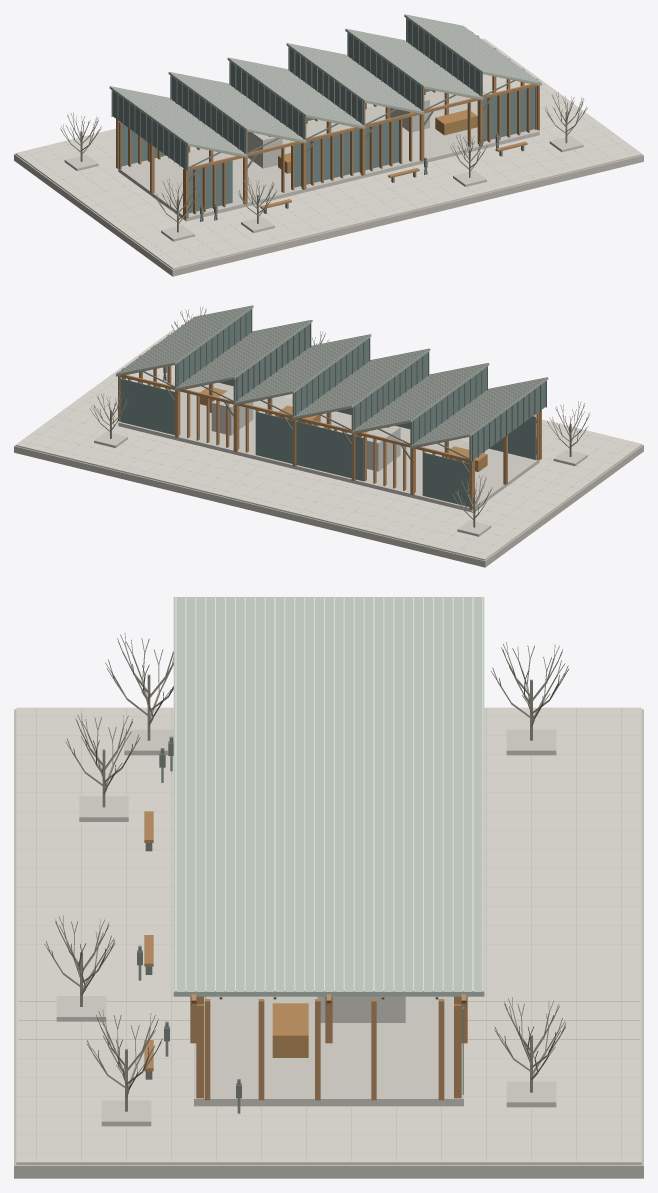
Rendered from northlight.glb.
3 renders of one model, top to bottom at view 1: azimuth 30°, elevation 25°; view 2: azimuth 150°, elevation 25°; view 3: azimuth 270°, elevation 25°, orthographic. The views are drawn at different scales.
Visible parts, largest first — view 1: Site / Ground - Plaster, Enclosure / Standing seam roof - Zinc, Enclosure / Roof seams - Aluminum, Enclosure / Clerestory - Glass, Structure / Floor - Concrete, Site / Ground - Paving, Enclosure / Shopfronts - Glass, Enclosure / Facade fins - Cedar, Structure / Portal frames - Cedar, Structure / Clerestory frames - Steel, Site / Planting - Branch, Site / Ground - Concrete (+4 smaller); view 2: Site / Ground - Plaster, Enclosure / Standing seam roof - Zinc, Enclosure / Roof seams - Aluminum, Enclosure / Shopfronts - Glass, Enclosure / Clerestory - Glass, Structure / Floor - Concrete, Site / Ground - Paving, Structure / Clerestory frames - Steel, Structure / Portal frames - Cedar, Enclosure / Facade fins - Cedar, Interior / Service cores - Concrete, Site / Planting - Branch (+3 smaller); view 3: Site / Ground - Plaster, Enclosure / Standing seam roof - Zinc, Site / Ground - Paving, Enclosure / Roof seams - Aluminum, Structure / Floor - Concrete, Site / Planting - Branch, Site / Ground - Concrete, Structure / End frame - Cedar, Interior / Service cores - Concrete, Interior / Market counters - Ochre, Enclosure / Facade fins - Cedar, Structure / Portal frames - Cedar (+2 smaller).
Boxes of the visible parts, <box> form: Site / Ground - Plaster: <box>15,38,642,269</box>; Enclosure / Standing seam roof - Zinc: <box>109,15,541,157</box>; Enclosure / Roof seams - Aluminum: <box>110,14,541,154</box>; Enclosure / Clerestory - Glass: <box>112,19,482,170</box>; Structure / Floor - Concrete: <box>118,90,539,221</box>; Site / Ground - Paving: <box>14,42,643,276</box>; Enclosure / Shopfronts - Glass: <box>121,86,534,213</box>; Enclosure / Facade fins - Cedar: <box>118,85,539,214</box>; Structure / Portal frames - Cedar: <box>116,32,540,218</box>; Structure / Clerestory frames - Steel: <box>111,18,480,170</box>; Site / Planting - Branch: <box>60,92,587,232</box>; Site / Ground - Concrete: <box>64,136,583,241</box>; Site / Ground - Plaster: <box>15,329,642,560</box>; Enclosure / Standing seam roof - Zinc: <box>116,305,548,448</box>; Enclosure / Roof seams - Aluminum: <box>116,305,547,445</box>; Enclosure / Shopfronts - Glass: <box>120,378,535,506</box>; Enclosure / Clerestory - Glass: <box>175,309,545,461</box>; Structure / Floor - Concrete: <box>118,381,539,511</box>; Site / Ground - Paving: <box>14,333,643,567</box>; Structure / Clerestory frames - Steel: <box>177,309,546,461</box>; Structure / Portal frames - Cedar: <box>117,322,541,509</box>; Enclosure / Facade fins - Cedar: <box>118,376,539,496</box>; Interior / Service cores - Concrete: <box>211,387,400,471</box>; Site / Planting - Branch: <box>89,306,590,527</box>; Site / Ground - Plaster: <box>16,707,641,1164</box>; Enclosure / Standing seam roof - Zinc: <box>173,597,484,996</box>; Site / Ground - Paving: <box>14,708,643,1178</box>; Enclosure / Roof seams - Aluminum: <box>175,596,483,991</box>; Structure / Floor - Concrete: <box>194,996,463,1106</box>; Site / Planting - Branch: <box>44,633,569,1111</box>; Site / Ground - Concrete: <box>56,729,556,1126</box>; Structure / End frame - Cedar: <box>204,999,444,1100</box>; Interior / Service cores - Concrete: <box>317,996,405,1022</box>; Interior / Market counters - Ochre: <box>272,1003,308,1057</box>; Enclosure / Facade fins - Cedar: <box>196,996,461,1098</box>; Structure / Portal frames - Cedar: <box>190,994,467,1043</box>.
Bounding box in the file's own units: 48 × 8.81 × 28.
